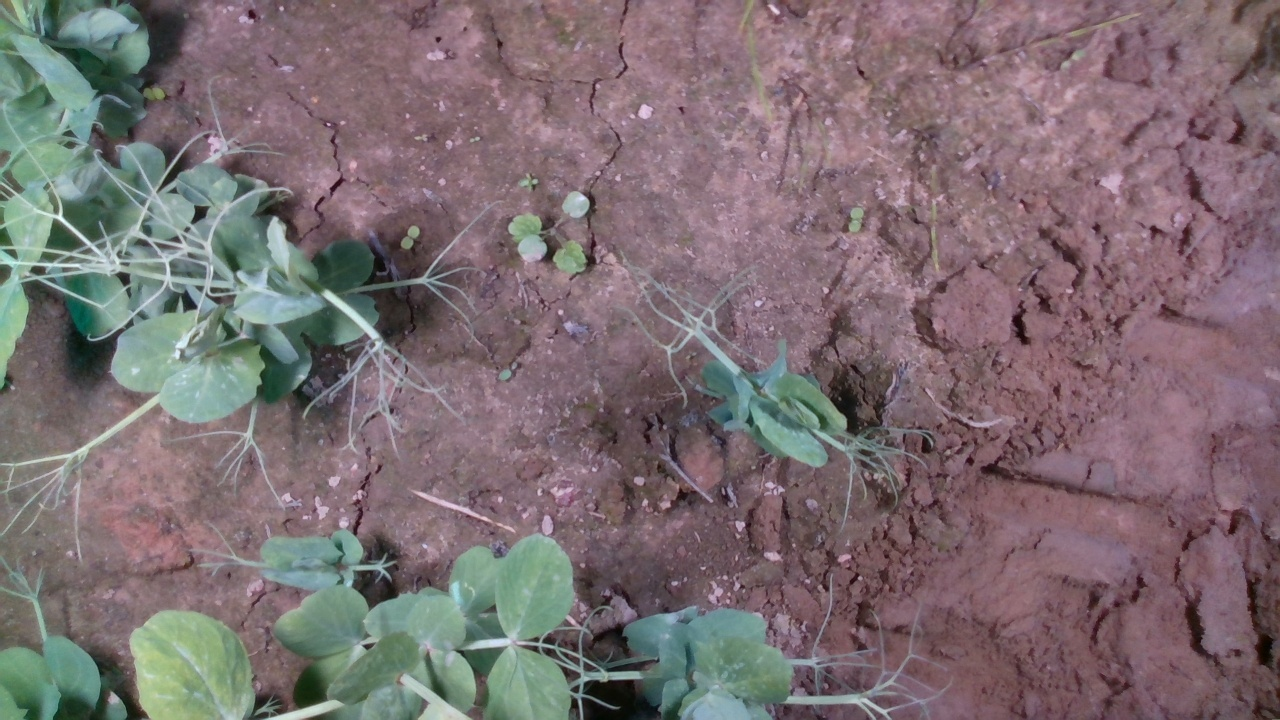weed: (507, 190, 590, 273), (843, 205, 870, 233), (399, 221, 420, 251), (514, 171, 540, 192)
